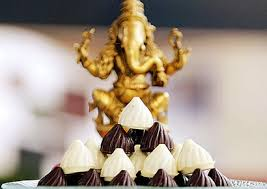modak: (39, 166, 229, 189), (63, 140, 215, 168), (105, 124, 172, 151), (120, 97, 153, 129)
